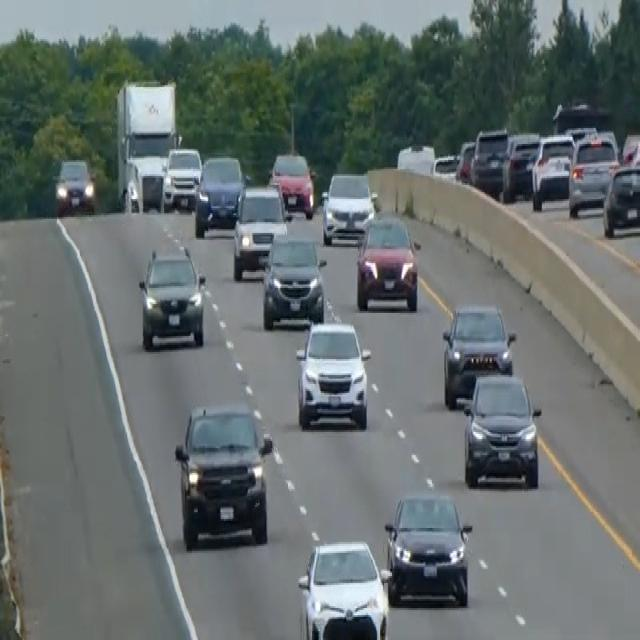car: (383, 489, 473, 606), (460, 370, 542, 489), (296, 537, 388, 638), (295, 318, 371, 430), (441, 301, 516, 407), (137, 242, 206, 350), (355, 212, 420, 311), (261, 231, 326, 329), (232, 181, 288, 279), (193, 151, 246, 237), (567, 130, 619, 217), (321, 169, 375, 243), (530, 130, 574, 210), (268, 149, 315, 219), (602, 160, 639, 238), (501, 130, 540, 201), (470, 126, 509, 196), (161, 144, 202, 210), (124, 153, 166, 211), (54, 157, 95, 215), (396, 140, 435, 174), (454, 139, 475, 183), (432, 151, 459, 178), (620, 130, 639, 167)
jeep: (173, 400, 273, 551)
lorry: (113, 78, 180, 212)
